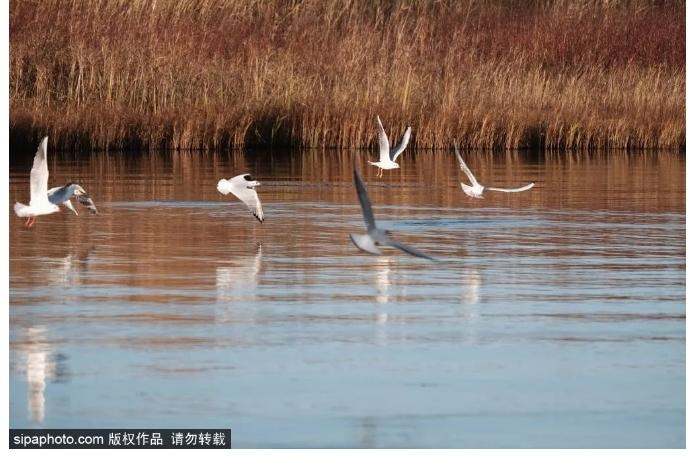bird: (339, 158, 443, 264), (451, 134, 538, 199), (10, 140, 65, 232), (199, 168, 272, 224), (364, 112, 415, 178)
